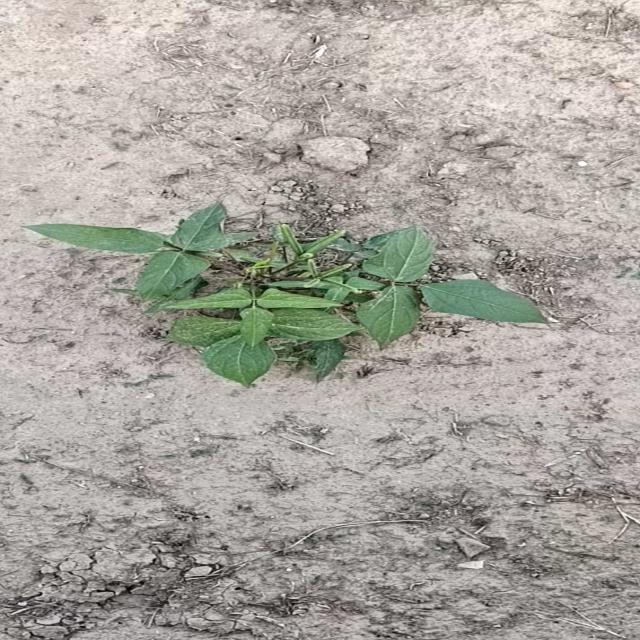plant: (25, 203, 545, 386)
